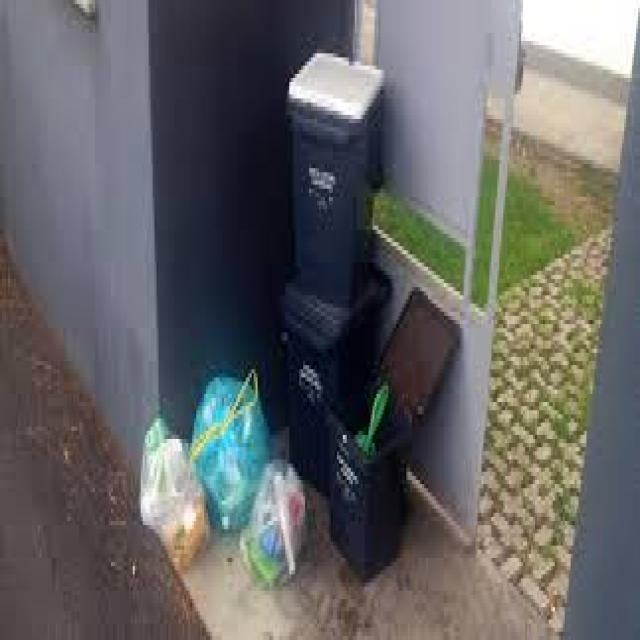sampah-detection: (187, 362, 271, 538), (135, 408, 213, 568), (236, 452, 307, 596)
